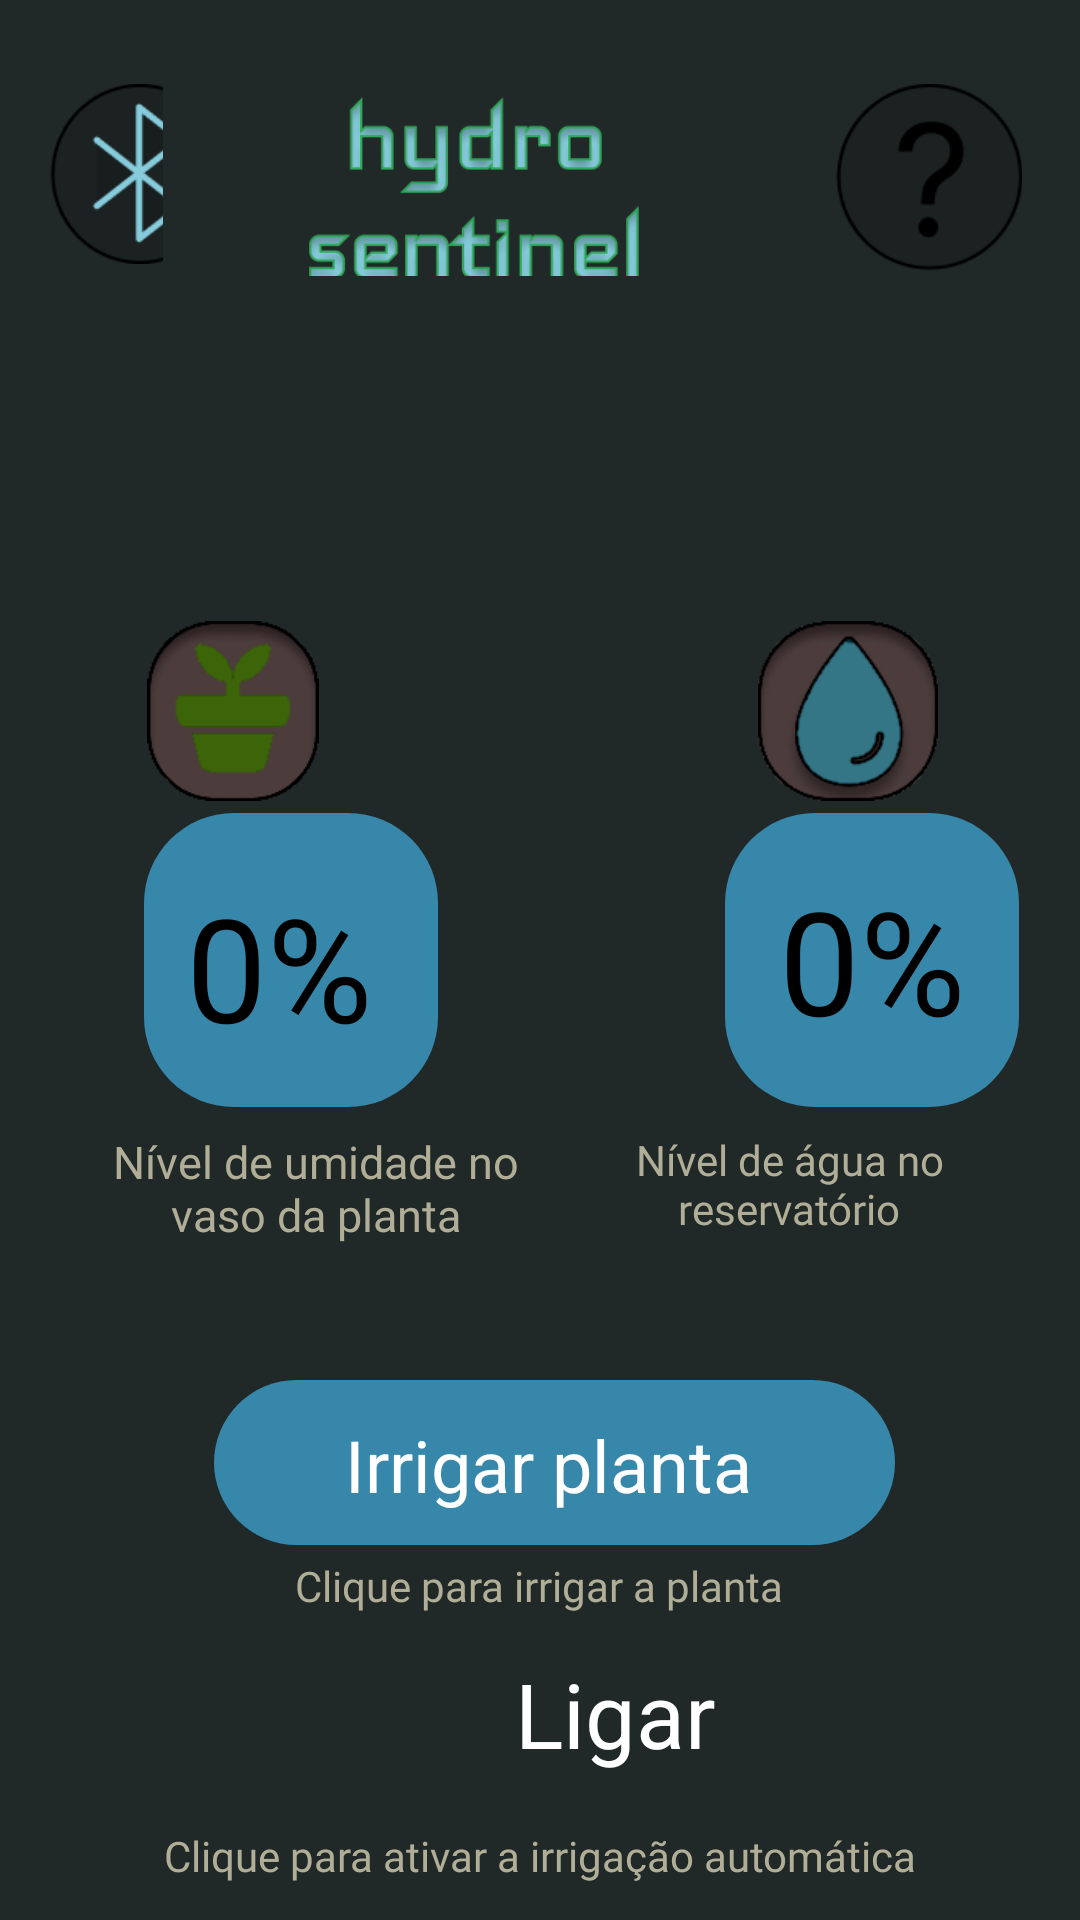

Icon click points for this 1080px×1920px phone screenshot, format [x,y]:
agua: [848,711]
planta: [233,711]
tutorial: [930,176]
